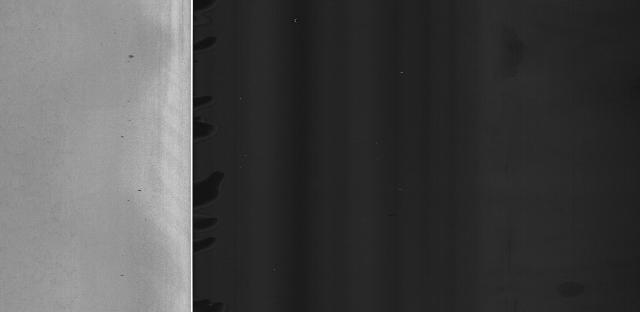inclusion: (125, 186, 143, 203), (122, 47, 138, 61)
silk_spot: (0, 16, 82, 296)
